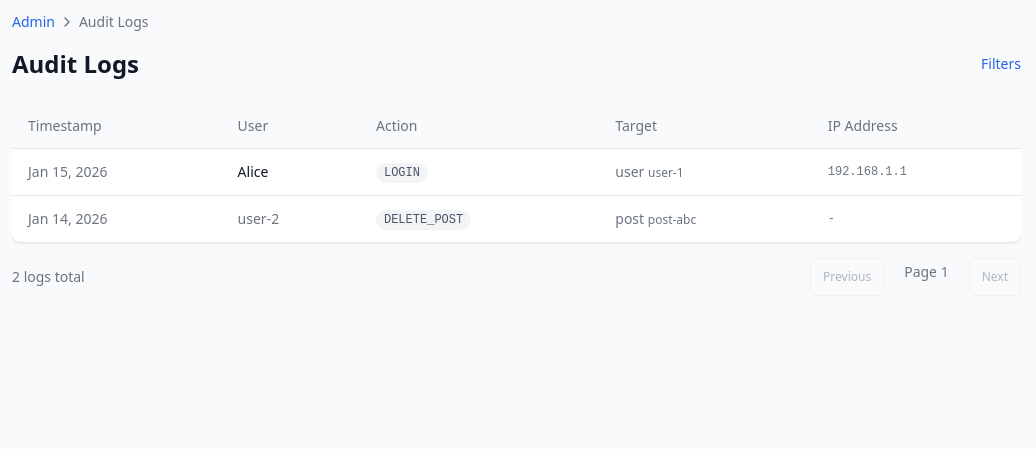
AuditLogsView › toggles filter panel when filter button is clicked
Click the toggle filters button
Click the button "Filters" at (1001, 64), box [981,54,1021,74]
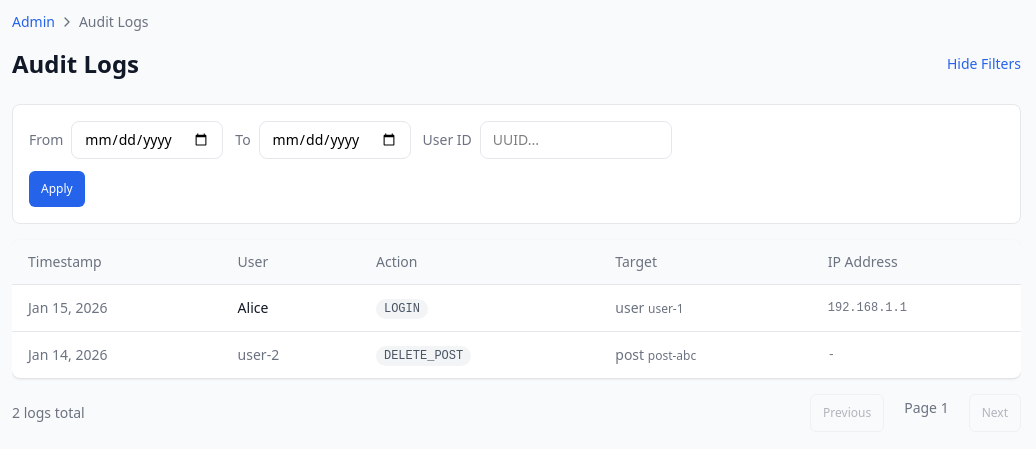
Expected: the number of date fields is 2, [71,121,223,159]; [259,121,411,159]
